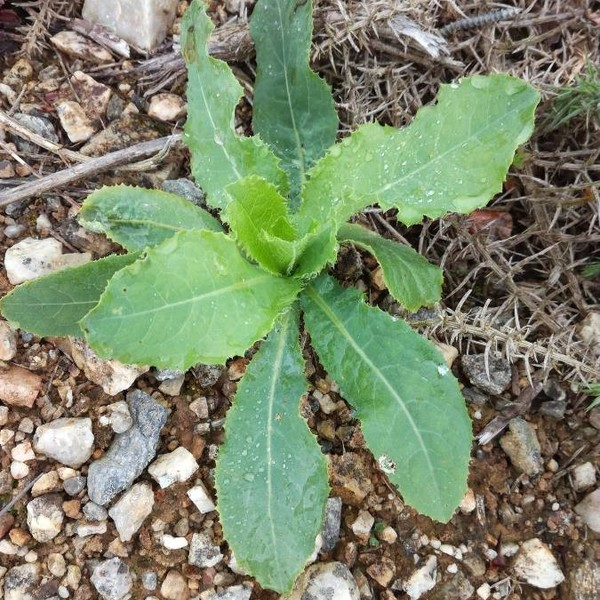obstacle: (69, 29, 537, 562)
